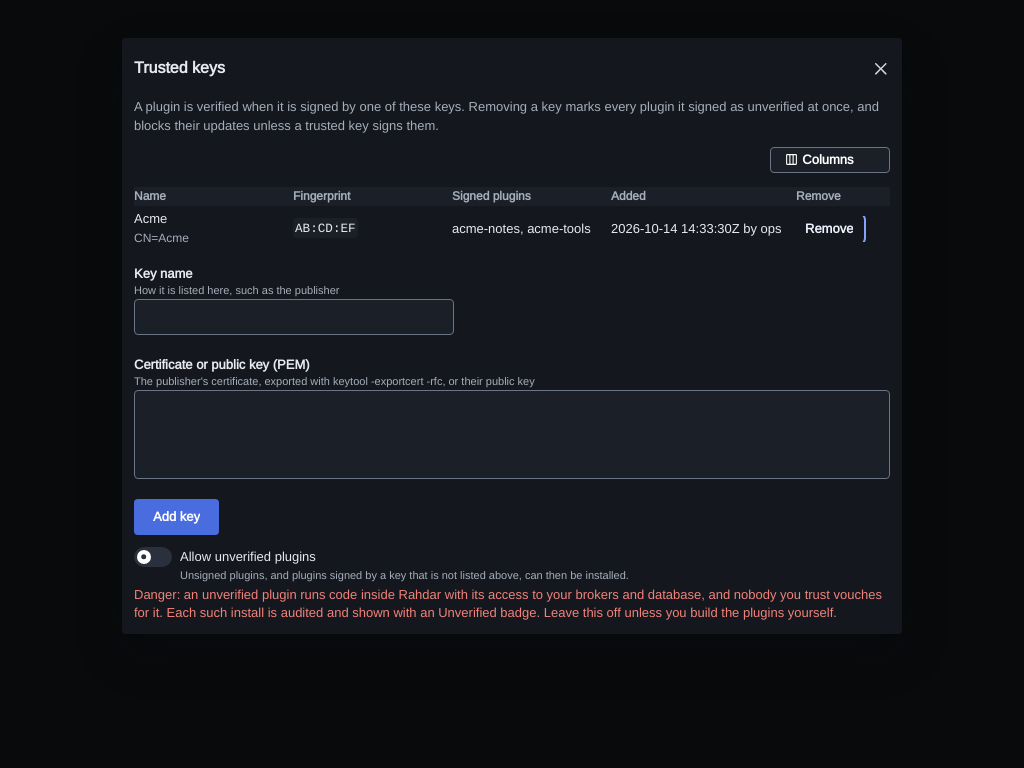
Trusted keys › removes a key after naming the plugins that become unverified, by keyboard alone
Press Enter
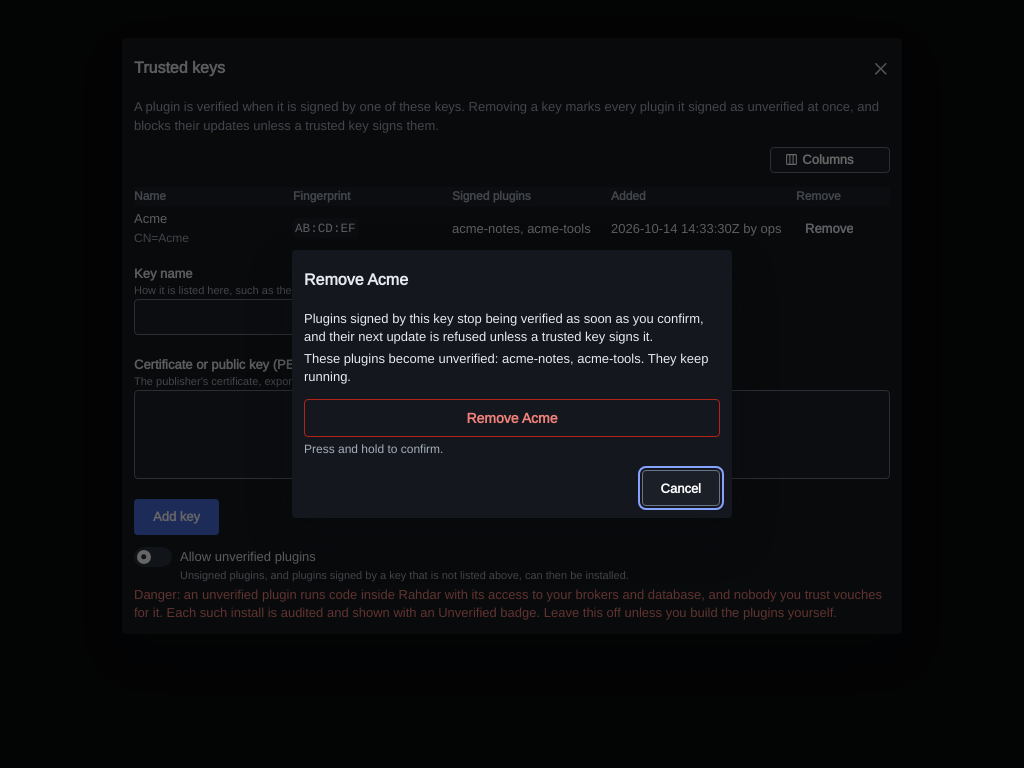
expect the text "These plugins become unverified: acme-notes, acme-tools" is shown: met, box 304,350 -> 708,386
Press Escape
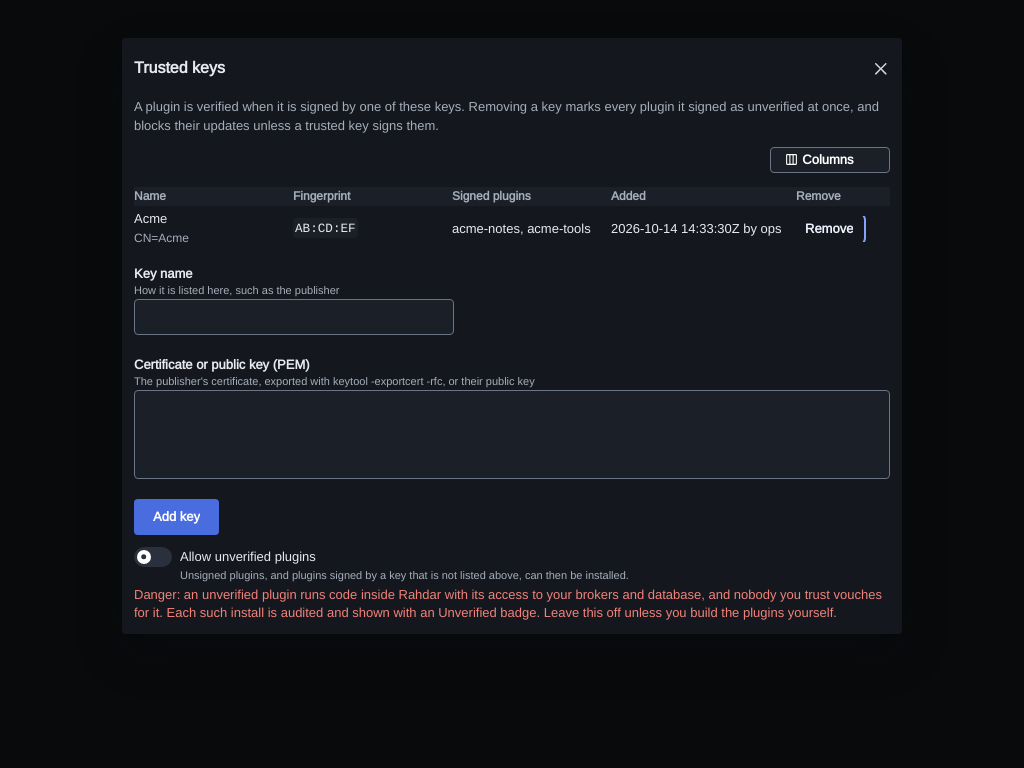
expect the dialog "Trusted keys" is shown: met, box 122,38 -> 902,634
Press Enter
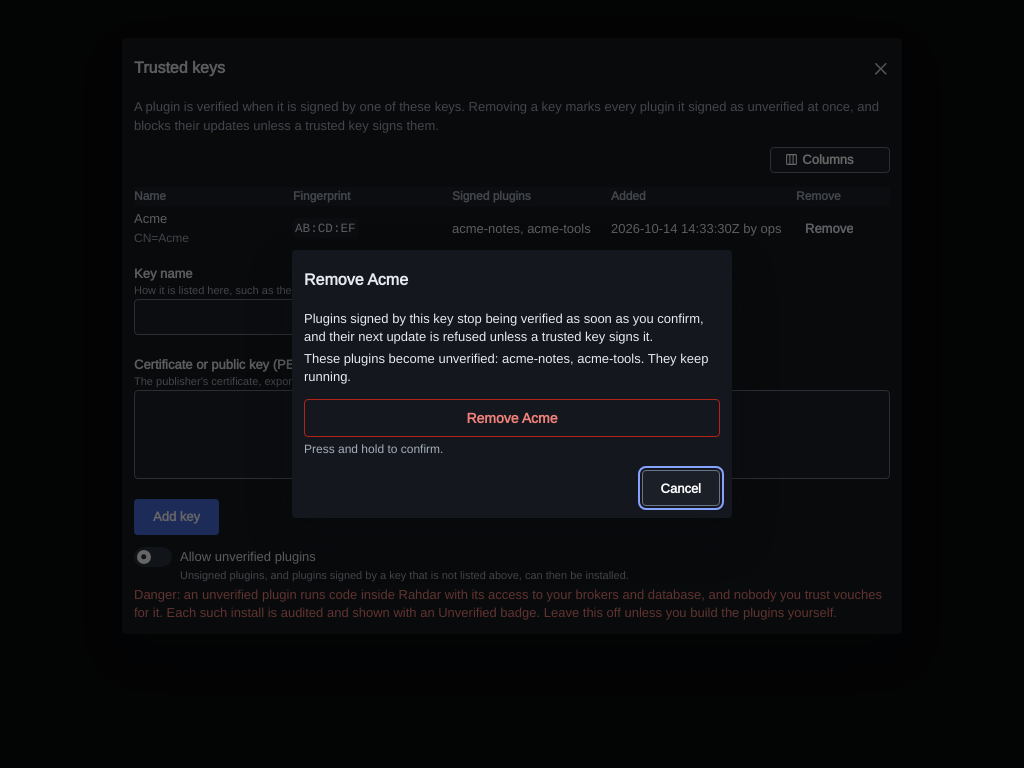
Press the mouse on the button "Remove Acme Remove Acme" at (512, 418), box 304,399 -> 720,437
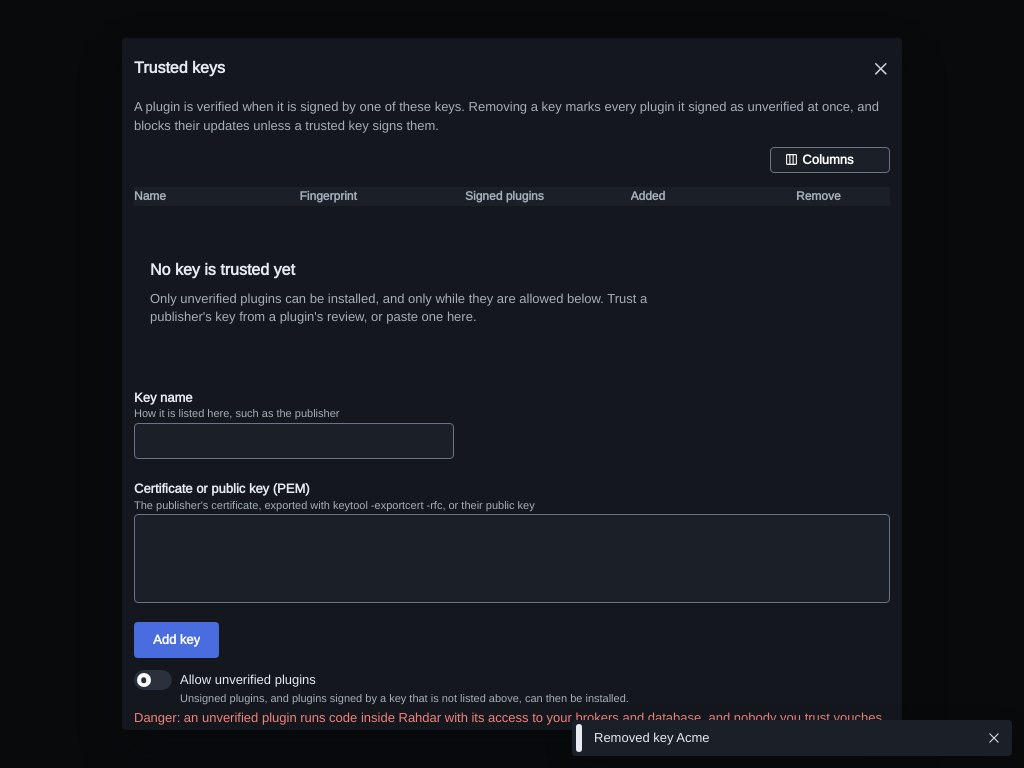
expect the text "Removed key Acme" is shown: met, box 594,729 -> 710,746
